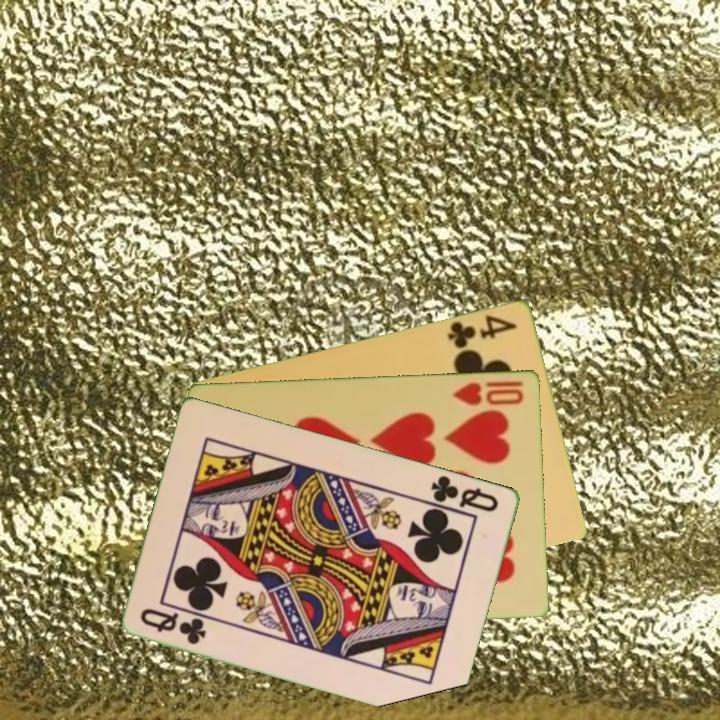10h: (449, 378, 527, 408)
4c: (444, 311, 520, 351)
Qc: (427, 471, 502, 515), (137, 604, 210, 648)
